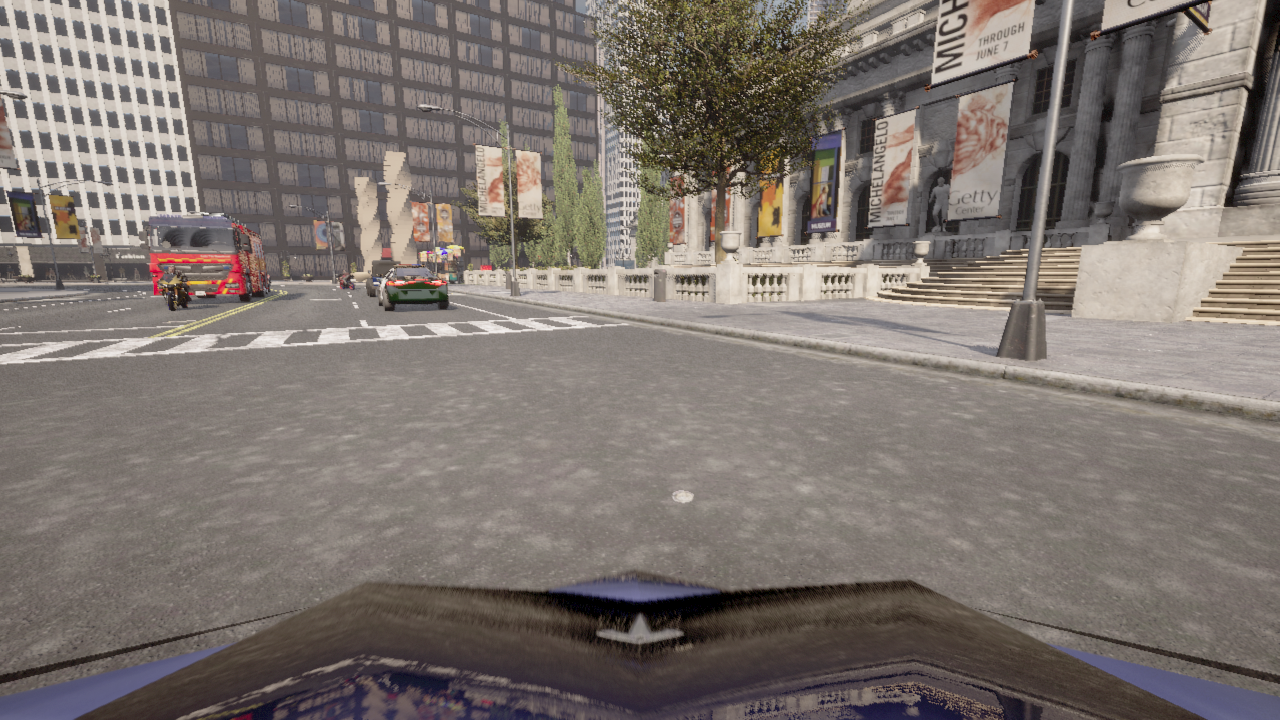cyclist: (0, 569, 1279, 719), (139, 212, 267, 301), (376, 264, 448, 310), (152, 274, 190, 310), (366, 261, 400, 296), (336, 274, 355, 289), (265, 279, 269, 293), (267, 275, 270, 284)
